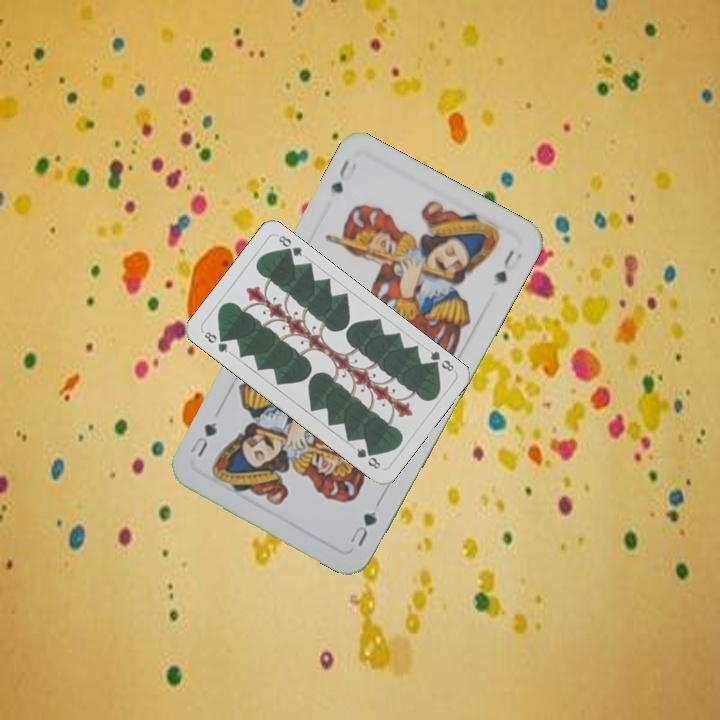G8: (424, 347, 457, 374), (200, 327, 230, 355)
GU: (346, 507, 380, 549), (326, 155, 360, 196)
